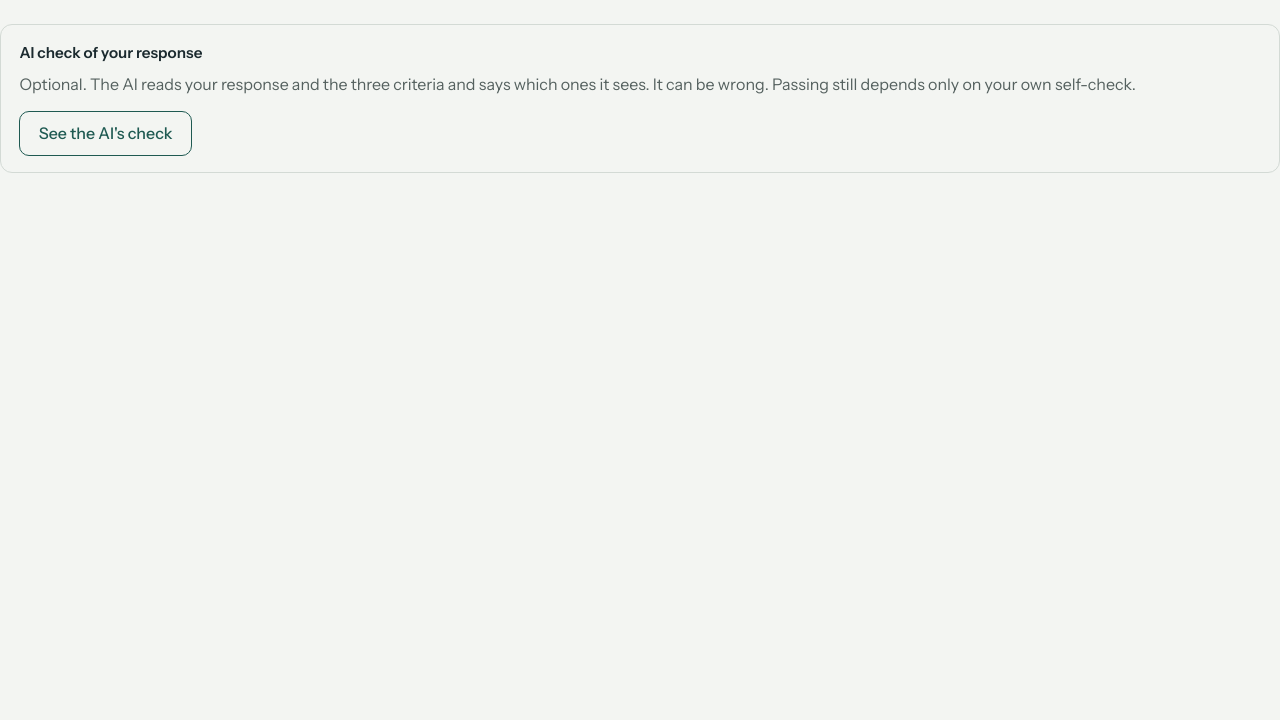
it: AI feedback panel › a double click sends one request
Double-click the button "See the AI's check": (106, 134) [19,111,192,156]
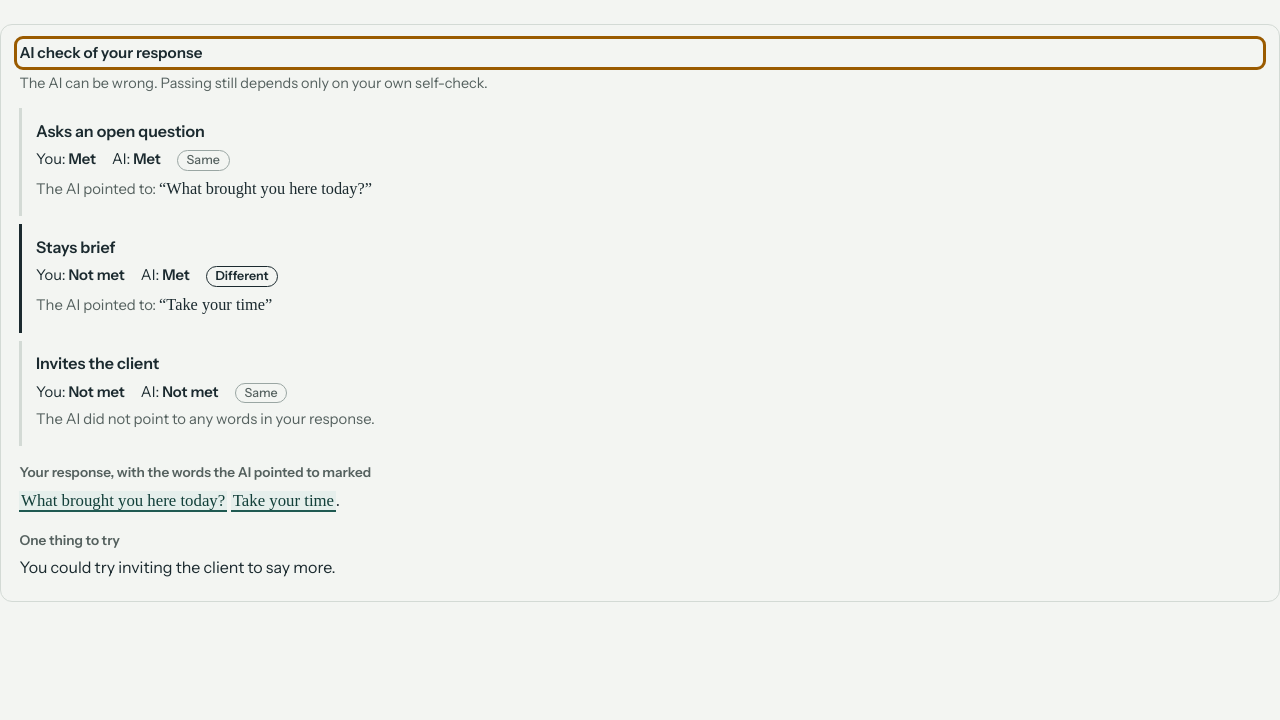
Now the text "The AI can be wrong. Passing still depends only on your own self-check." is shown, box [19,74,488,92]
